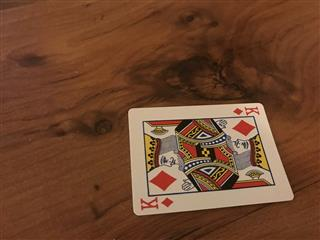KingOfDiamonds: (126, 101, 294, 216)
